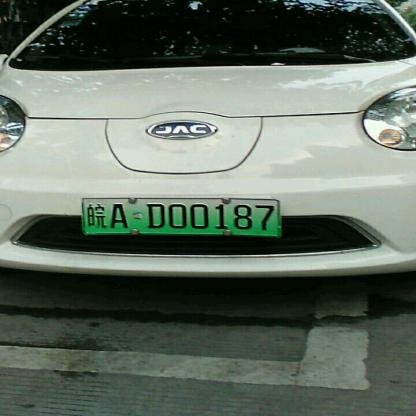lp: (81, 198, 281, 236)
